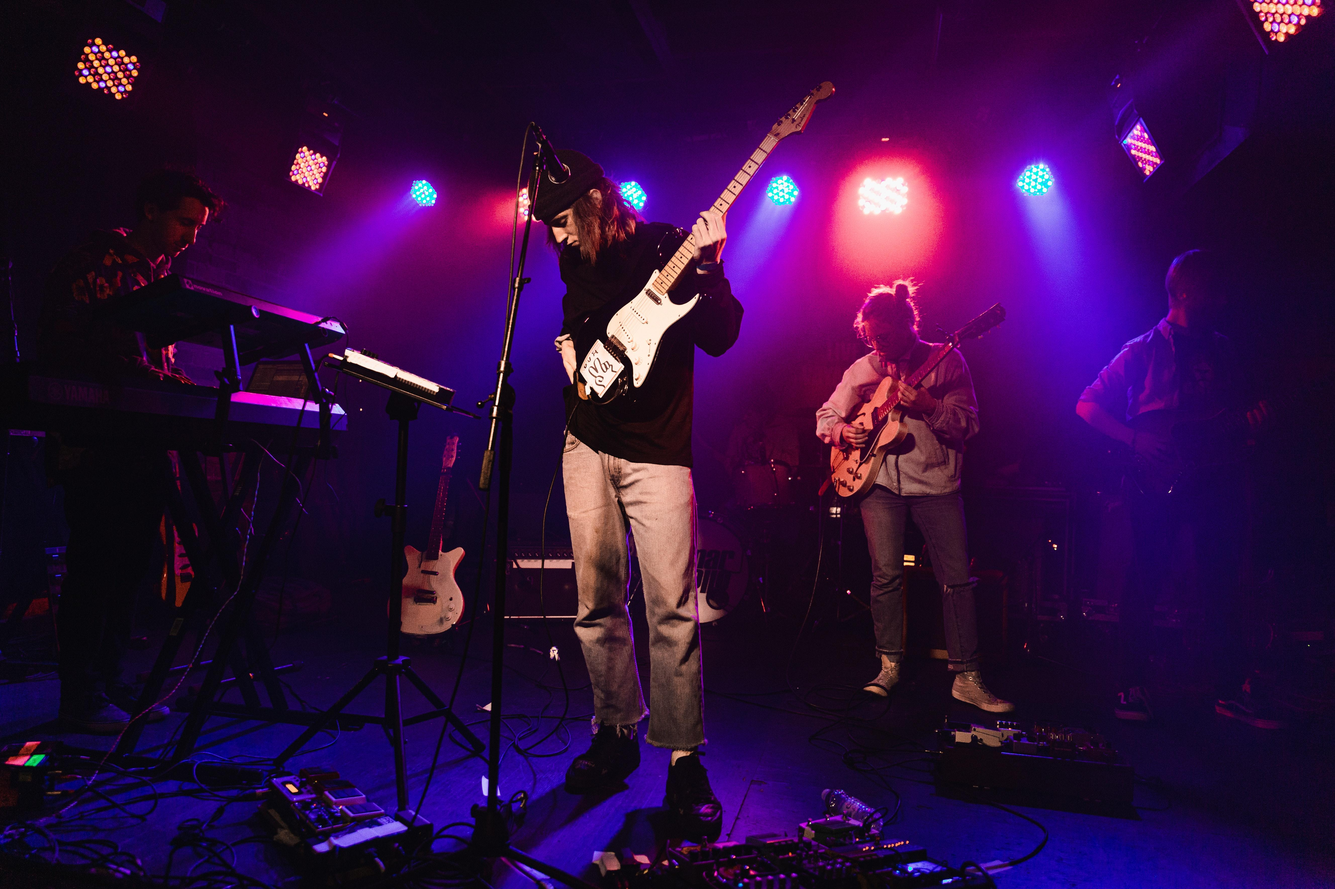acousticguitar: (561, 81, 830, 416), (830, 302, 1003, 503), (1122, 390, 1332, 501), (395, 430, 469, 643)
